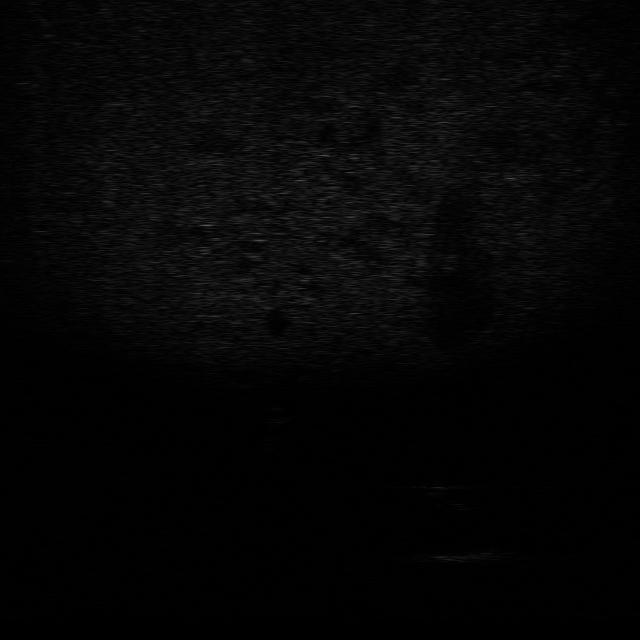ball: (258, 404, 294, 427)
metal bucket: (414, 546, 511, 566)
tyre: (424, 479, 480, 513)
